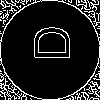D: (25, 25, 70, 61)
